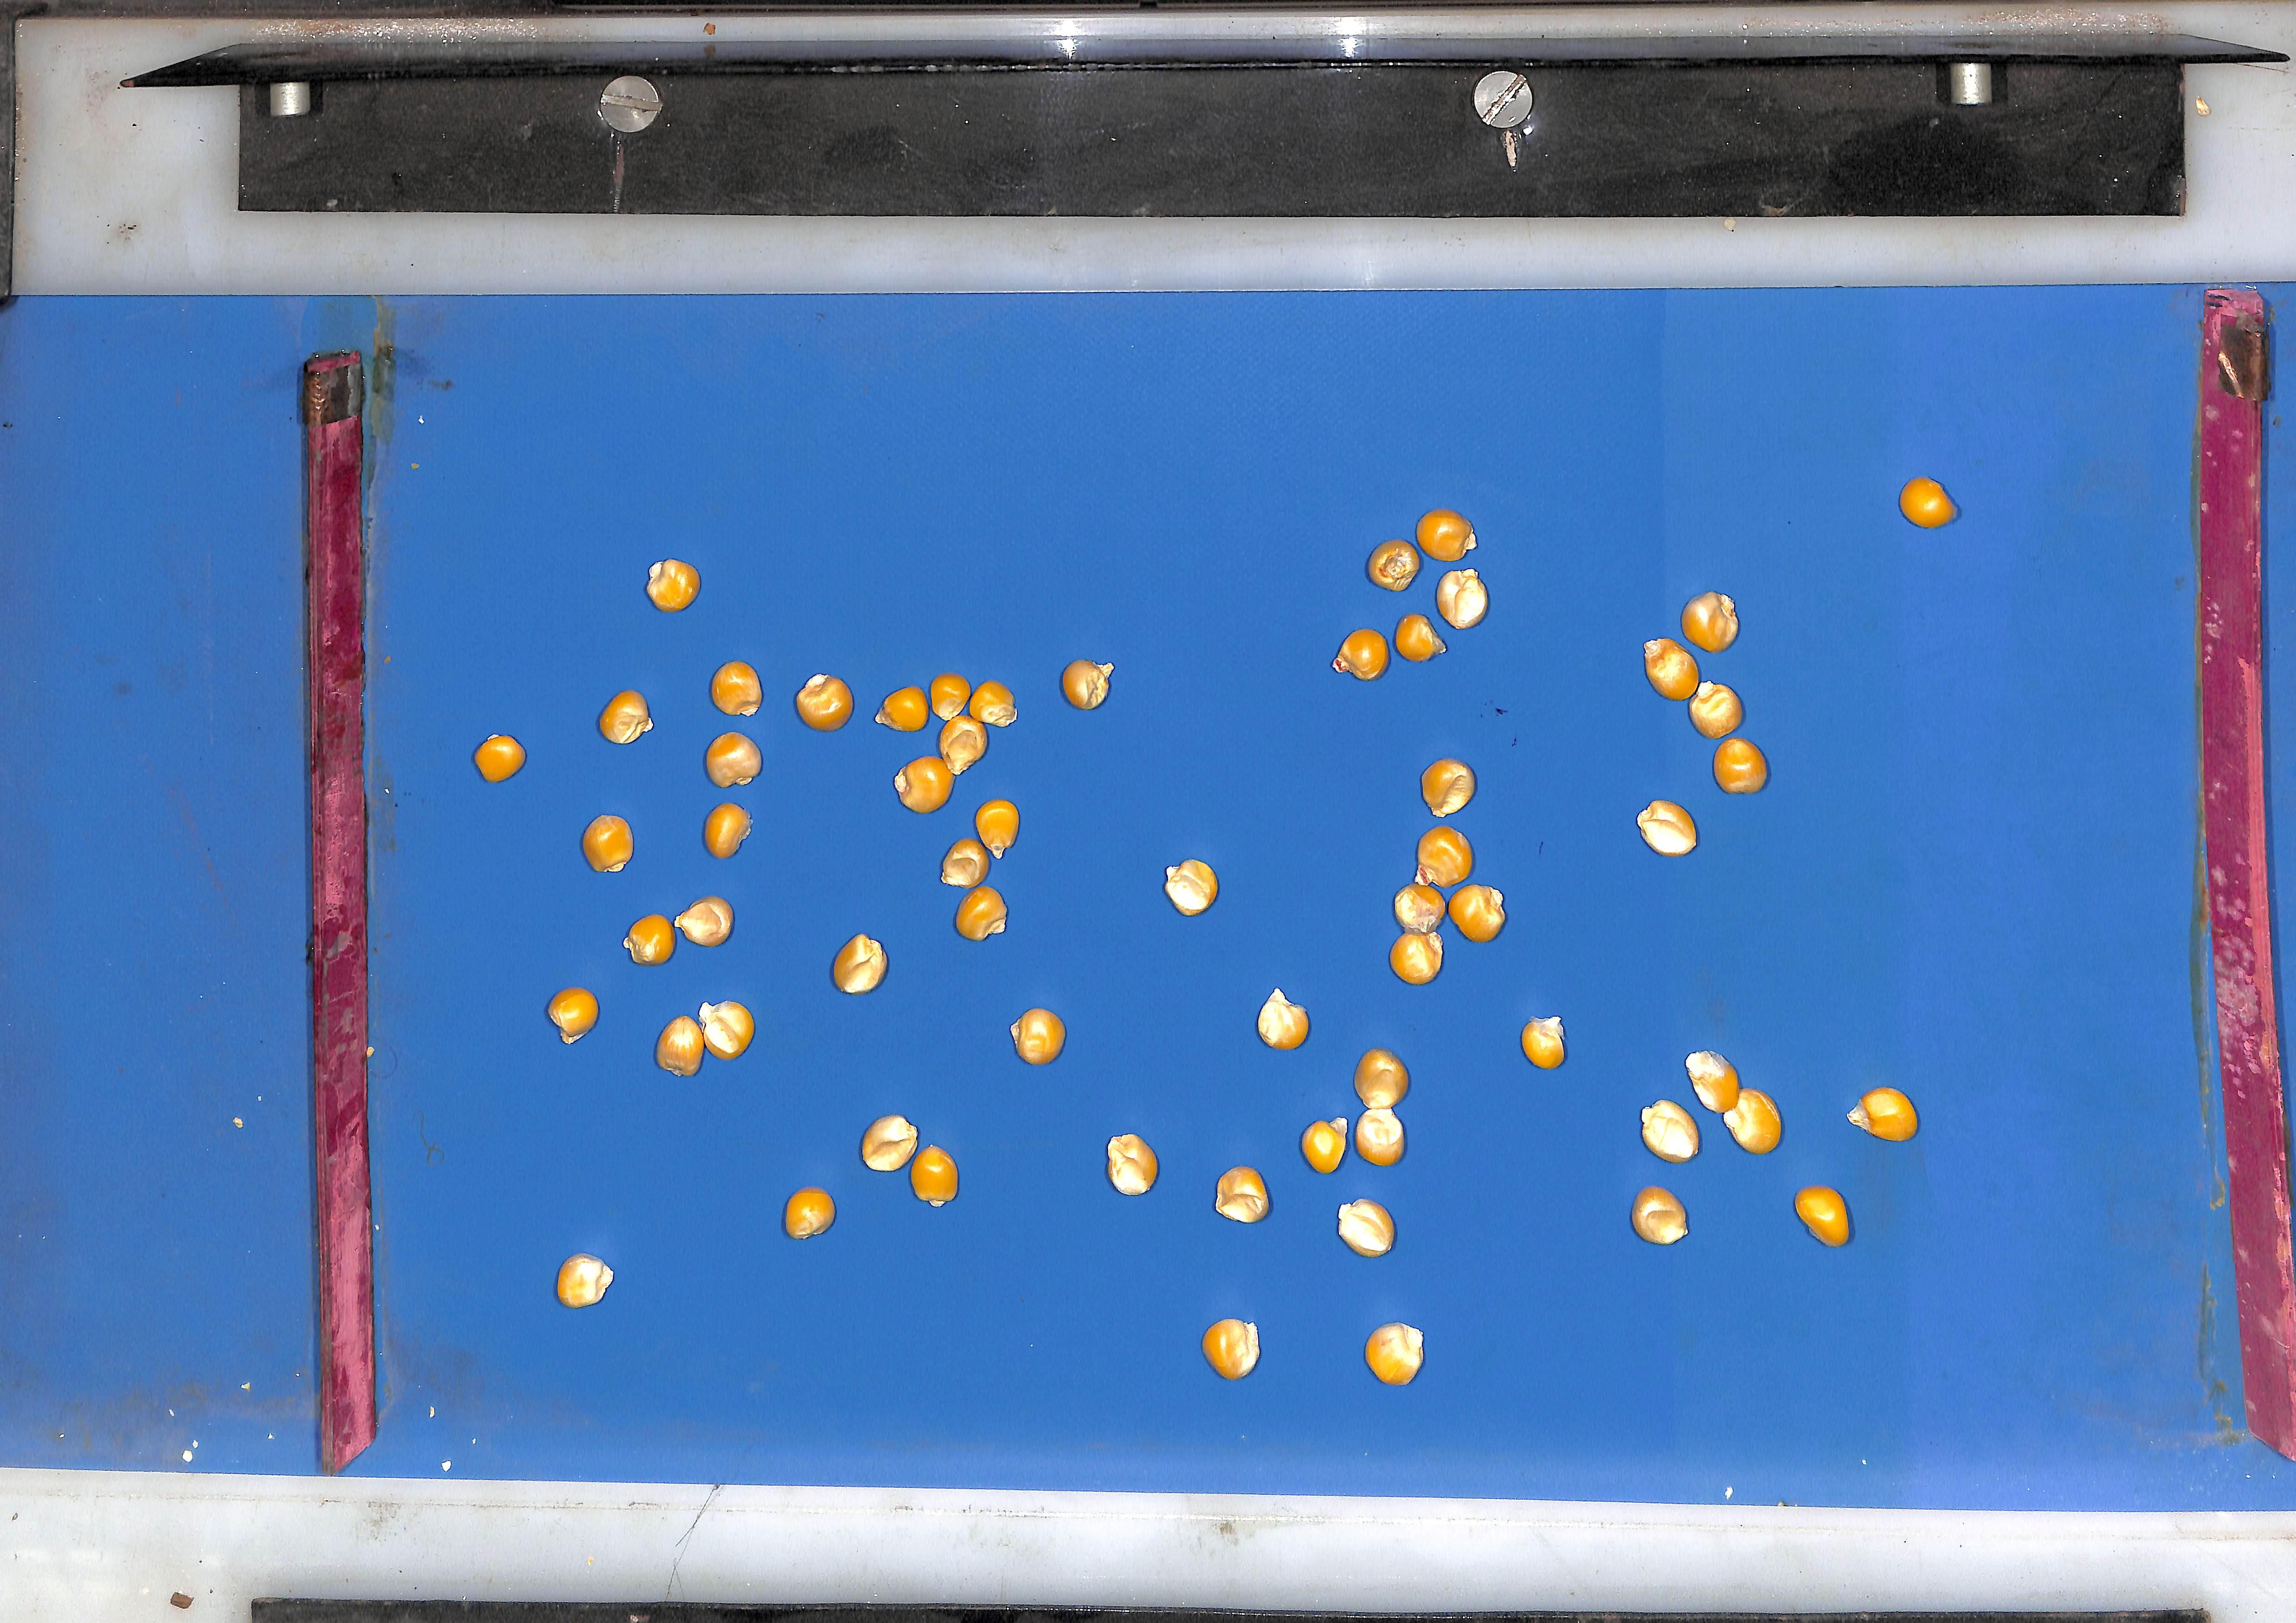pure: (654, 1002, 753, 1076), (1726, 1089, 1785, 1155), (1851, 1088, 1921, 1142), (1643, 1100, 1702, 1164), (1366, 1324, 1425, 1386), (1683, 589, 1742, 651), (1418, 825, 1475, 887), (1203, 1320, 1261, 1381), (1687, 1051, 1744, 1113), (1646, 636, 1701, 699), (1797, 1187, 1854, 1248), (1449, 884, 1507, 943), (893, 755, 953, 812), (1639, 799, 1700, 855), (859, 1116, 918, 1173), (1633, 1187, 1690, 1246), (794, 673, 852, 730), (1339, 1200, 1396, 1258), (831, 935, 887, 993), (1356, 1049, 1409, 1109), (1257, 989, 1310, 1050), (1215, 1167, 1271, 1224), (1107, 1135, 1158, 1196), (672, 895, 733, 947), (704, 730, 760, 786), (1418, 508, 1477, 560), (1011, 1008, 1066, 1065), (1423, 759, 1477, 816), (554, 1255, 612, 1309), (1438, 568, 1489, 628), (1692, 681, 1746, 738), (1717, 736, 1770, 793), (653, 1016, 703, 1077), (954, 884, 1008, 941), (1166, 859, 1219, 916), (938, 713, 987, 774), (597, 689, 651, 743), (1356, 1108, 1406, 1167), (580, 814, 631, 871), (1334, 627, 1390, 680), (545, 988, 597, 1044), (1391, 931, 1445, 985), (645, 557, 699, 610), (1903, 475, 1960, 526), (910, 1147, 957, 1207), (709, 660, 761, 714), (1368, 538, 1422, 590), (783, 1188, 834, 1240), (1395, 881, 1447, 933), (1061, 658, 1114, 709), (974, 798, 1020, 856), (702, 803, 750, 857), (621, 915, 673, 965), (1302, 1118, 1349, 1174), (875, 685, 930, 730), (940, 838, 989, 888), (472, 734, 523, 781), (1395, 612, 1446, 660), (1523, 1017, 1568, 1069), (967, 679, 1017, 726), (929, 672, 971, 719)
